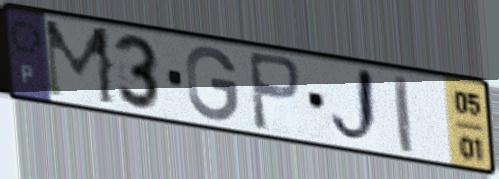3: (110, 31, 165, 114)
G: (184, 44, 241, 124)
I: (390, 72, 417, 157)
J: (327, 64, 384, 149)
M: (40, 16, 119, 110)
P: (245, 48, 304, 135)
